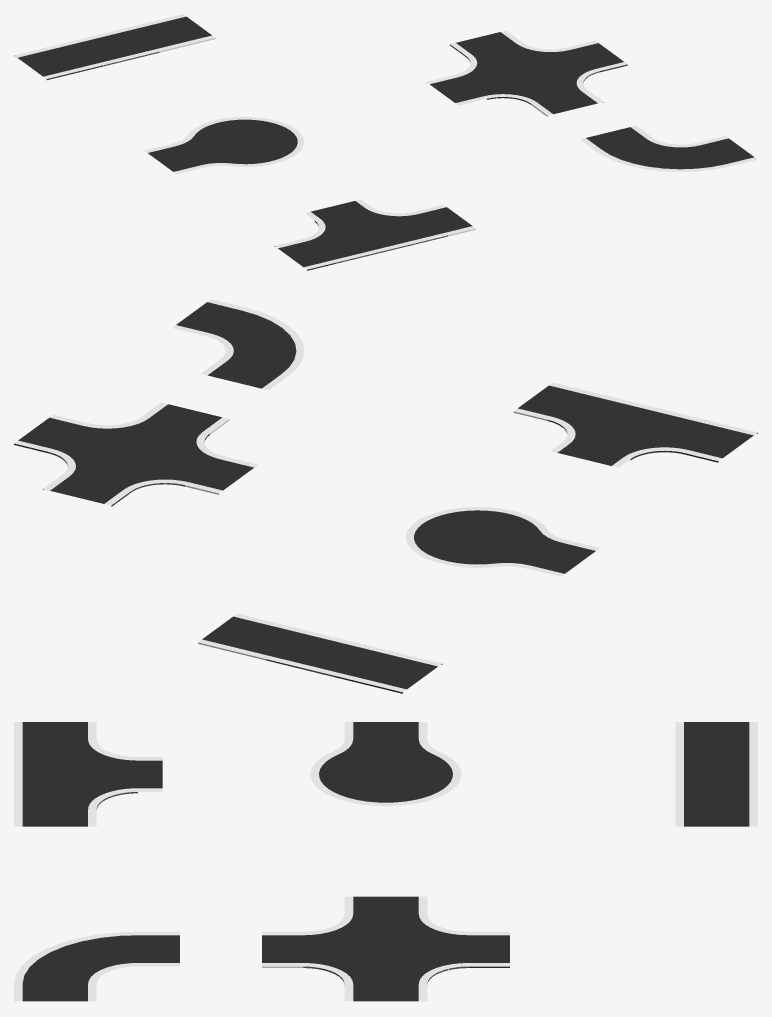
Rendered from RoadsMaterial.fbx.
3 renders of one model, top to bottom at view 1: azimuth 30°, elevation 25°; view 2: azimuth 150°, elevation 25°; view 3: azimuth 270°, elevation 25°, orthographic. The views are drawn at different scales.
Parts seen in each view (by area): view 1: CuatroFormaT, FormaT, Recto.002, Recto, Recto.001; view 2: CuatroFormaT, FormaT, Recto.002, Recto, Recto.001; view 3: CuatroFormaT, FormaT, Recto.002, Recto, Recto.001.
Boxes of the visible parts, x1,y1,x2,y2 form: CuatroFormaT: (426,30,627,116); FormaT: (274,199,475,270); Recto.002: (144,116,304,174); Recto: (14,14,215,79); Recto.001: (580,125,757,171); CuatroFormaT: (14,402,257,506); FormaT: (513,382,757,467); Recto.002: (406,507,599,576); Recto: (198,613,442,693); Recto.001: (172,299,304,390); CuatroFormaT: (262,896,509,1001); FormaT: (14,722,162,826); Recto.002: (310,722,461,806); Recto: (675,722,757,826); Recto.001: (14,931,179,1001).
Bounding box in the file's own units: 8000 × 20 × 9000.
Materials: 1 (1 with a texture image).
